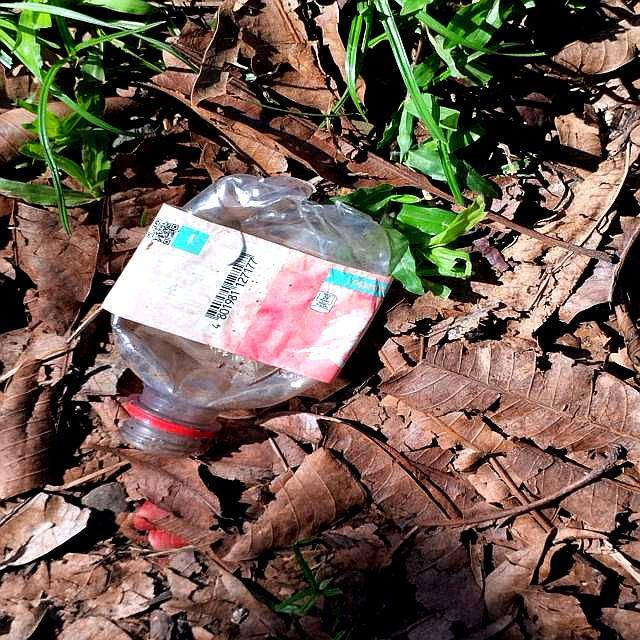Non-biodegradable: (31, 157, 435, 511)
